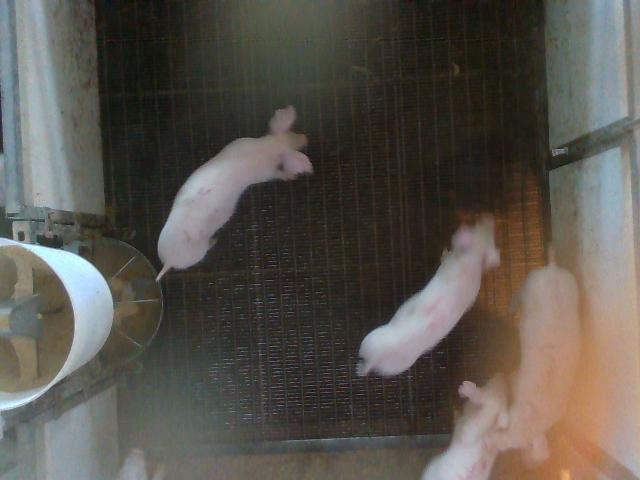pig-3: (508, 261, 581, 461)
pig-4: (358, 215, 500, 376)
pig-5: (422, 374, 509, 480)
